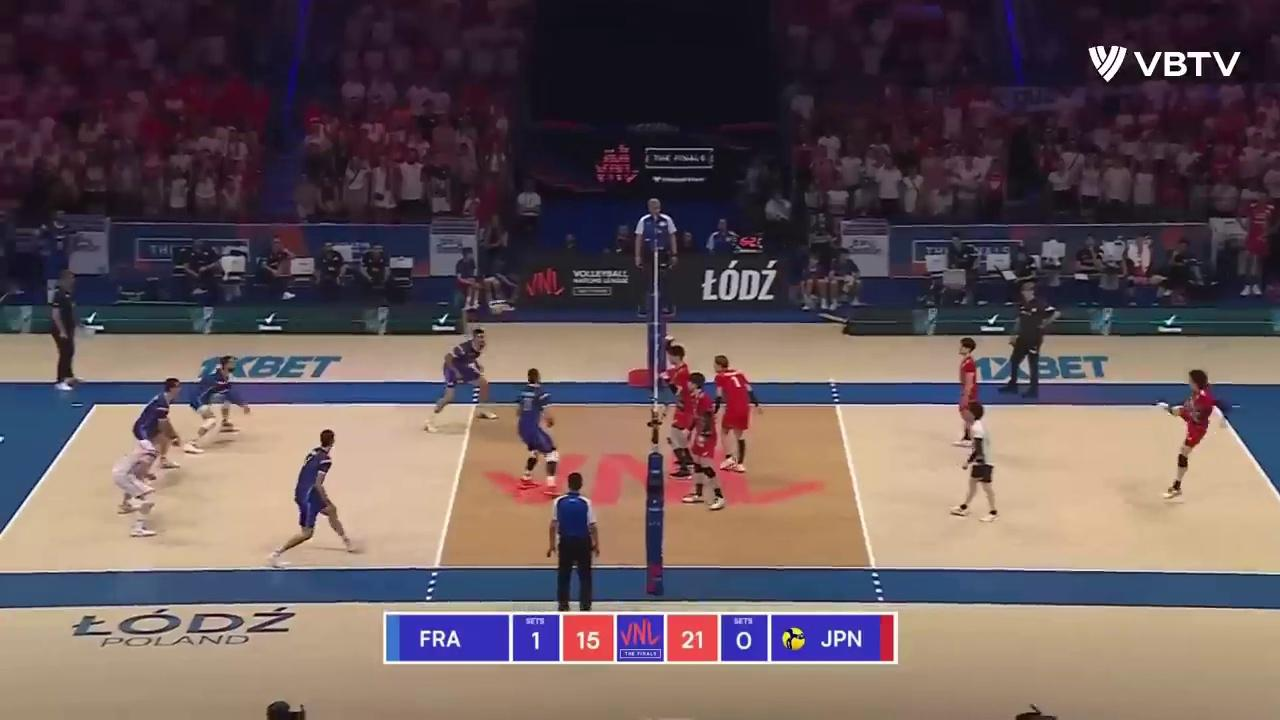ball: (489, 302, 502, 315)
